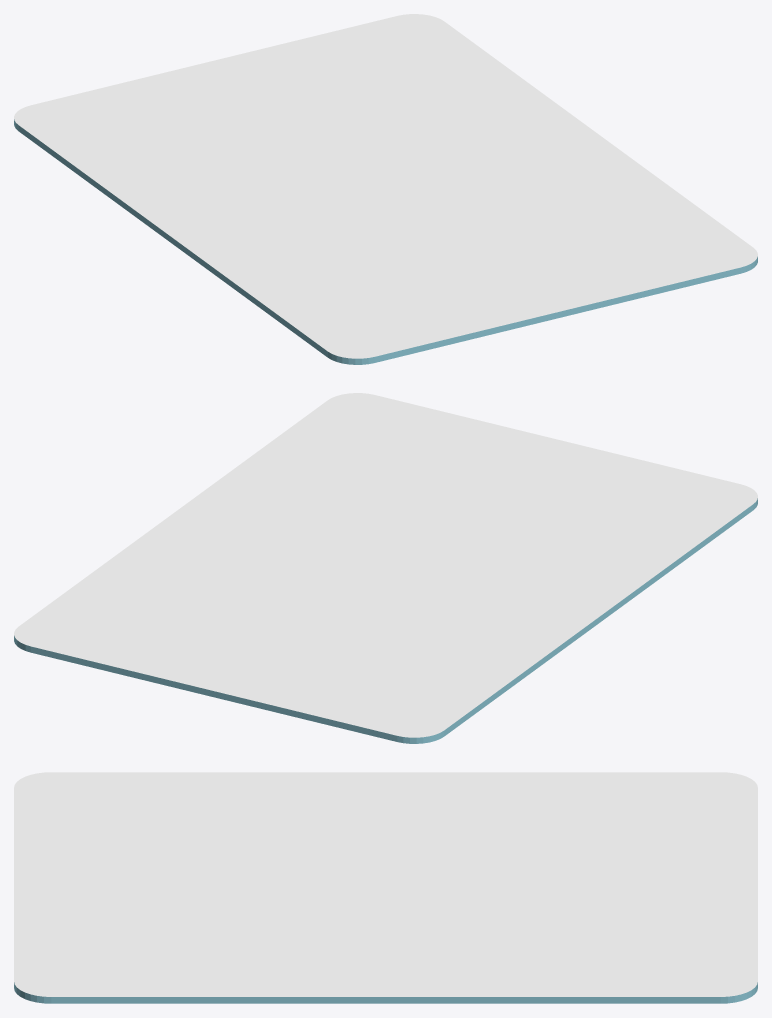
File: card_shatter_01.glb
3 views of the same model, one above another, from view 1: azimuth 30°, elevation 25°; view 2: azimuth 150°, elevation 25°; view 3: azimuth 270°, elevation 25° (orthographic). The views are drawn at different scales.
Parts seen in each view (by area): view 1: V01_CardPiece_04, V01_CardPiece_07, V01_CardPiece_02, V01_CardPiece_10, V01_CardPiece_06, V01_CardPiece_01, V01_CardPiece_08, V01_CardPiece_03, V01_CardPiece_05, V01_CardPiece_09; view 2: V01_CardPiece_07, V01_CardPiece_04, V01_CardPiece_10, V01_CardPiece_02, V01_CardPiece_06, V01_CardPiece_01, V01_CardPiece_08, V01_CardPiece_05, V01_CardPiece_09, V01_CardPiece_03; view 3: V01_CardPiece_07, V01_CardPiece_04, V01_CardPiece_10, V01_CardPiece_05, V01_CardPiece_02, V01_CardPiece_06, V01_CardPiece_08, V01_CardPiece_01, V01_CardPiece_09, V01_CardPiece_03.
Boxes of the visible parts, left/top/right/bottom form: V01_CardPiece_04: left=385, top=179, right=757, bottom=295; V01_CardPiece_07: left=14, top=44, right=286, bottom=162; V01_CardPiece_02: left=318, top=206, right=484, bottom=364; V01_CardPiece_10: left=294, top=14, right=587, bottom=141; V01_CardPiece_06: left=27, top=131, right=314, bottom=241; V01_CardPiece_01: left=170, top=205, right=360, bottom=350; V01_CardPiece_08: left=255, top=58, right=432, bottom=207; V01_CardPiece_03: left=391, top=209, right=650, bottom=335; V01_CardPiece_05: left=458, top=127, right=754, bottom=248; V01_CardPiece_09: left=282, top=41, right=528, bottom=184; V01_CardPiece_07: left=146, top=625, right=452, bottom=743; V01_CardPiece_04: left=330, top=393, right=464, bottom=555; V01_CardPiece_10: left=14, top=521, right=222, bottom=677; V01_CardPiece_02: left=427, top=457, right=757, bottom=563; V01_CardPiece_06: left=403, top=581, right=595, bottom=729; V01_CardPiece_01: left=443, top=511, right=743, bottom=625; V01_CardPiece_08: left=174, top=549, right=460, bottom=665; V01_CardPiece_05: left=163, top=399, right=334, bottom=542; V01_CardPiece_09: left=134, top=535, right=358, bottom=680; V01_CardPiece_03: left=430, top=417, right=630, bottom=551; V01_CardPiece_07: left=509, top=772, right=757, bottom=920; V01_CardPiece_04: left=14, top=873, right=363, bottom=1003; V01_CardPiece_10: left=407, top=926, right=757, bottom=1003; V01_CardPiece_05: left=47, top=917, right=407, bottom=1003; V01_CardPiece_02: left=14, top=772, right=351, bottom=873; V01_CardPiece_06: left=382, top=772, right=700, bottom=846; V01_CardPiece_08: left=343, top=845, right=722, bottom=914; V01_CardPiece_01: left=73, top=772, right=392, bottom=862; V01_CardPiece_09: left=363, top=904, right=757, bottom=965; V01_CardPiece_03: left=14, top=846, right=332, bottom=933.
Size of the model in its own units: 0.429 by 0.006 by 0.6.
